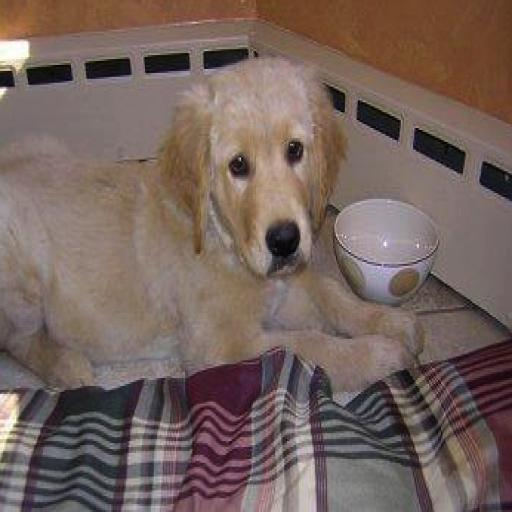dog_face: (171, 57, 340, 276)
